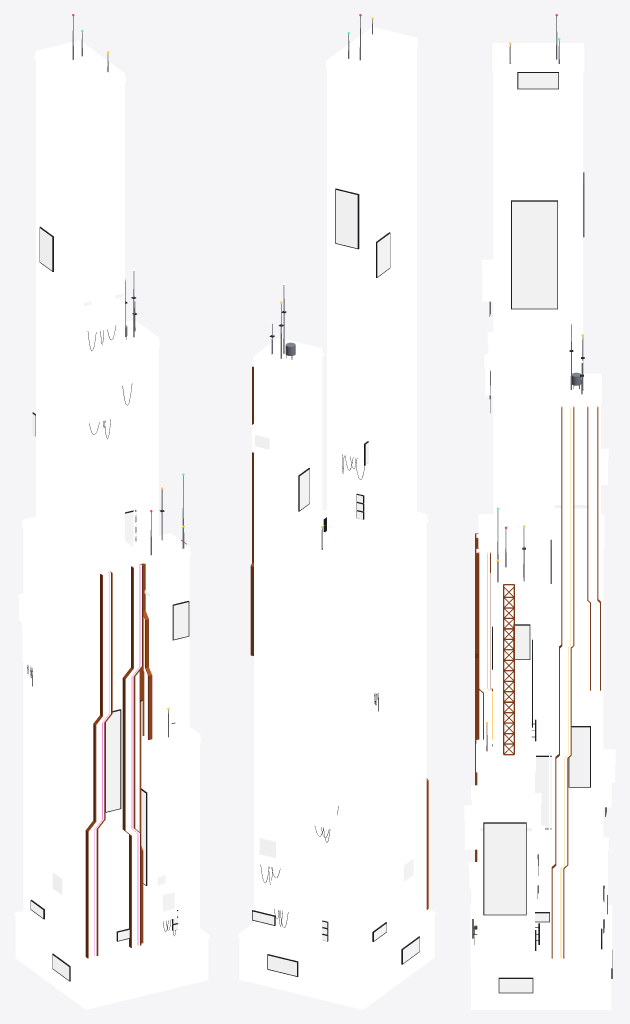
File: k_block_b.glb
3 renders of one model, left to right at view 1: azimuth 30°, elevation 25°; view 2: azimuth 150°, elevation 25°; view 3: azimuth 270°, elevation 25°, orthographic.
Parts seen in each view (by area): view 1: kit_dark, kit_mid, kit_grey, steel_orange, screen_atlas, metal_dark, neon_magenta, metal_light; view 2: kit_dark, kit_mid, kit_grey, screen_atlas, metal_dark, steel_orange, metal_light; view 3: kit_dark, kit_grey, kit_mid, screen_atlas, steel_orange, metal_dark, metal_light, neon_amber.
Boxes of the visible parts, x1,y1,x2,y2 form: kit_dark: (23,45,199,960); kit_mid: (15,59,208,1009); kit_grey: (14,40,209,967); steel_orange: (85,540,186,958); screen_atlas: (31,228,188,980); metal_dark: (27,226,189,981); neon_magenta: (94,565,140,955); metal_light: (72,16,184,737); kit_dark: (254,32,426,960); kit_mid: (239,31,434,1009); kit_grey: (238,27,435,967); screen_atlas: (252,190,419,975); metal_dark: (252,188,419,976); steel_orange: (250,366,428,909); metal_light: (271,16,372,549); kit_dark: (477,48,603,962); kit_grey: (464,43,615,968); kit_mid: (465,44,614,1009); screen_atlas: (480,73,589,992); steel_orange: (475,406,600,958); metal_dark: (472,72,612,993); metal_light: (486,16,583,751); neon_amber: (486,42,583,957).
Bounding box in the file's own units: 36.42 × 254 × 36.62.
